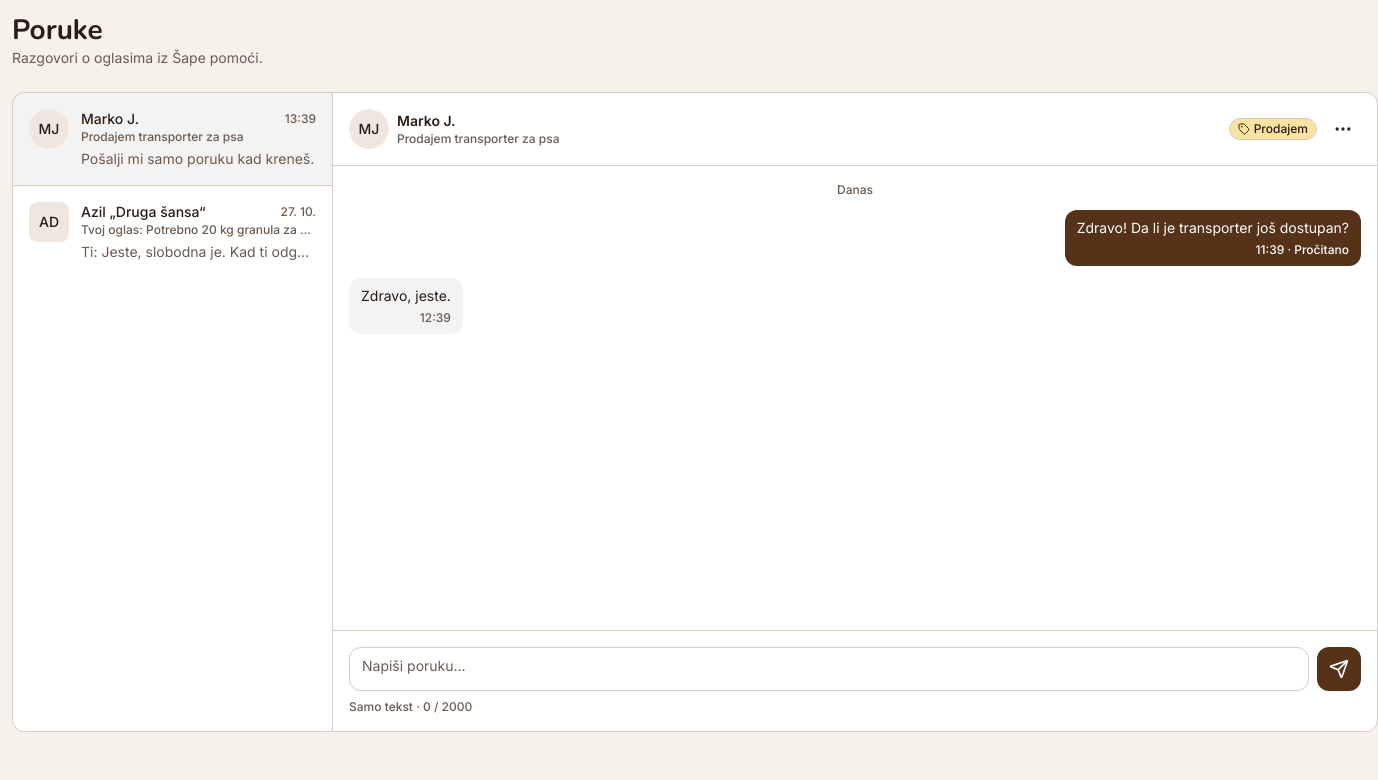
Test: FR-68 #7 — composer › text only, at most 2,000 characters, with the counter
Type "Super" into the text box named "Nova poruka" at (829, 669), box [349,647,1309,691]
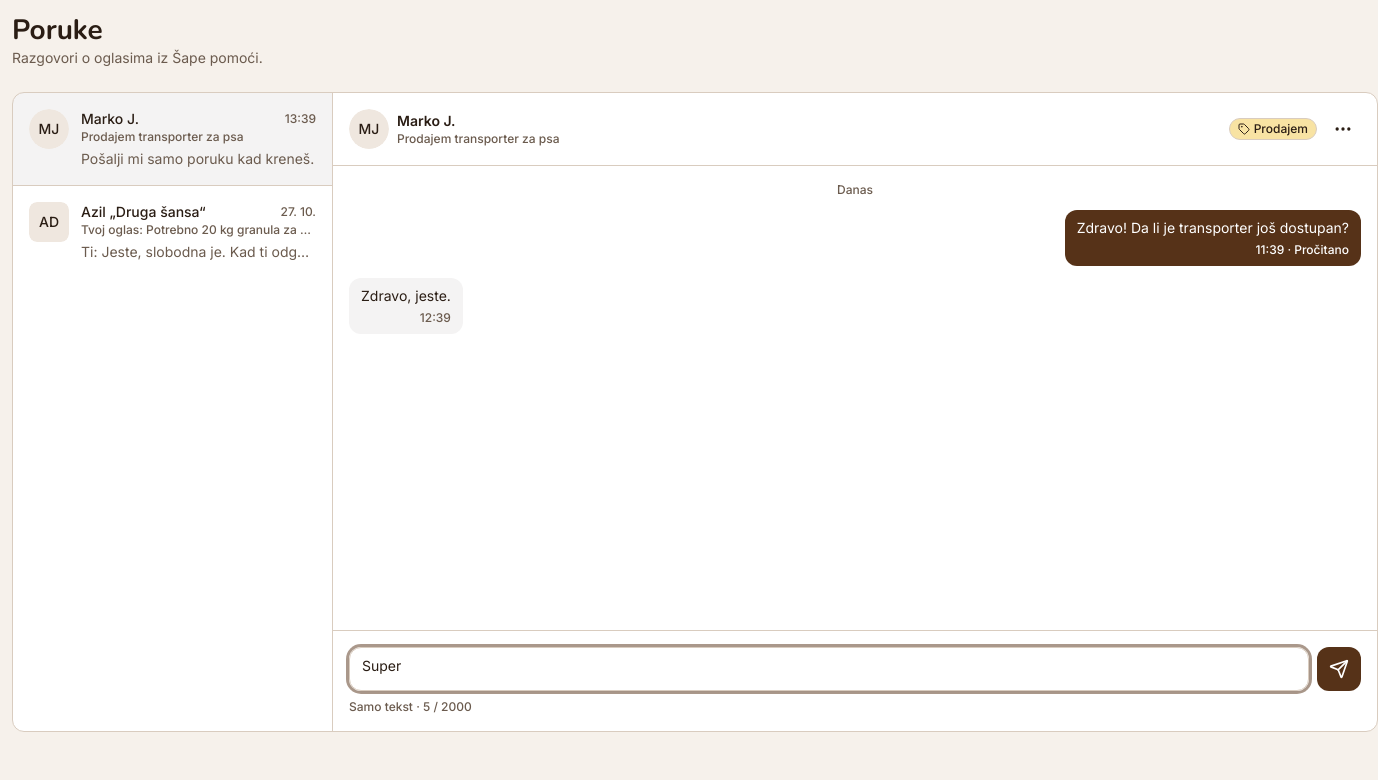
Result: the text "Samo tekst · 5 / 2000" is shown at [349,699,472,714]
